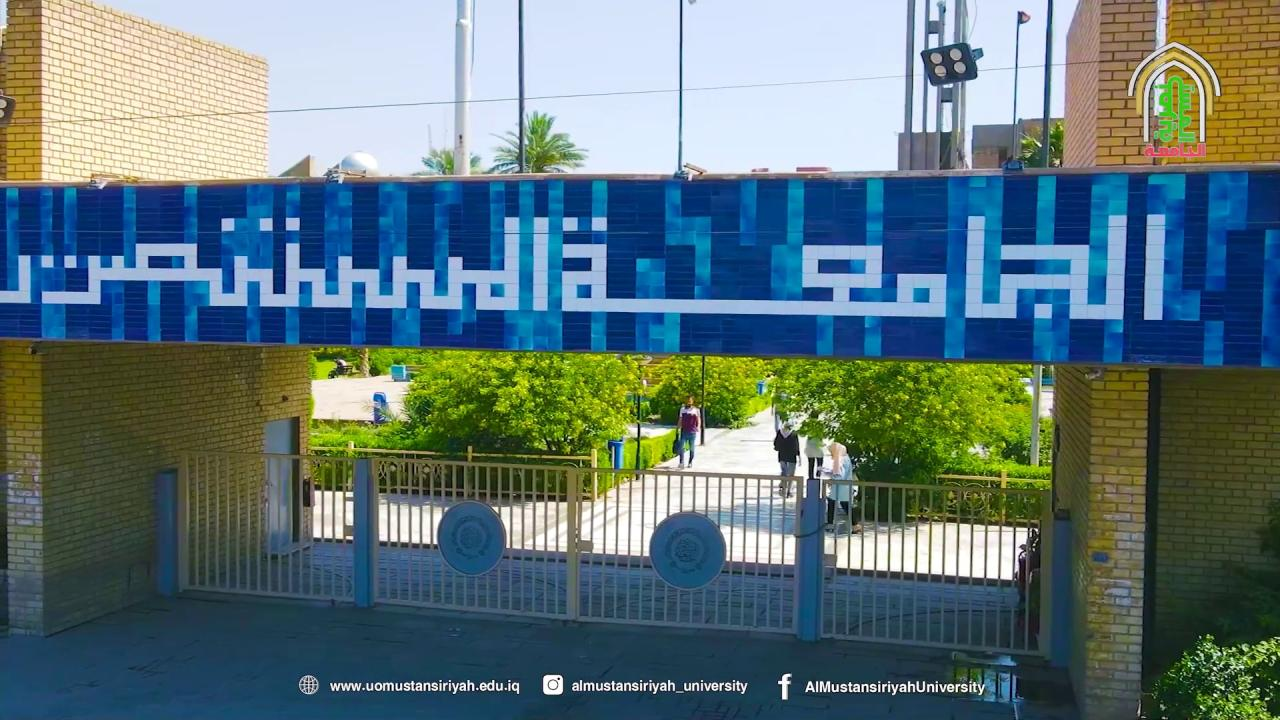fountain: (324, 150, 378, 181)
person: (823, 441, 862, 534), (773, 420, 800, 497), (674, 395, 701, 468)
tree: (761, 356, 1046, 521), (398, 349, 645, 497), (400, 350, 515, 491), (1136, 631, 1278, 719), (648, 354, 756, 431), (487, 109, 588, 174), (704, 356, 755, 428), (1017, 118, 1064, 167), (418, 146, 482, 176)
